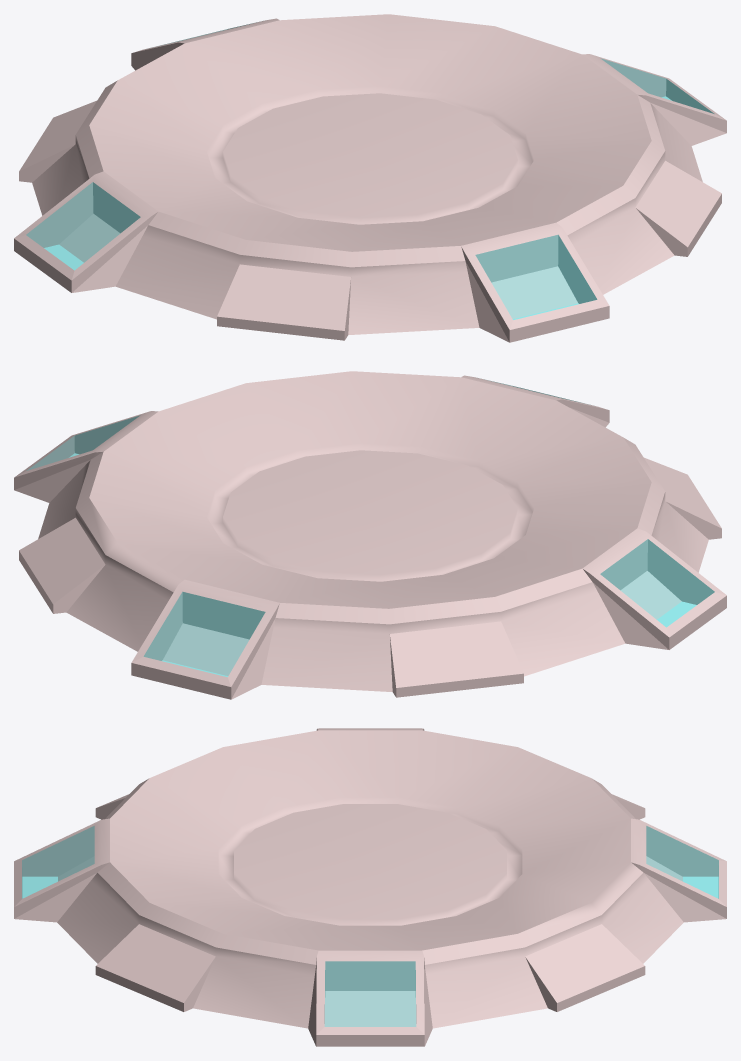
File: JumpPad_v3.fbx
3 renders of one model, top to bottom at view 1: azimuth 30°, elevation 25°; view 2: azimuth 150°, elevation 25°; view 3: azimuth 270°, elevation 25°, orthographic. The views are drawn at different scales.
Parts seen in each view (by area): view 1: JumpPad_v3, JumpPOadHolo_v1; view 2: JumpPad_v3, JumpPOadHolo_v1; view 3: JumpPad_v3, JumpPOadHolo_v1.
Boxes of the visible parts, bbox=[...] form: JumpPad_v3: bbox=[14, 14, 726, 342]; JumpPOadHolo_v1: bbox=[26, 26, 713, 319]; JumpPad_v3: bbox=[14, 371, 726, 699]; JumpPOadHolo_v1: bbox=[27, 383, 714, 676]; JumpPad_v3: bbox=[14, 728, 726, 1046]; JumpPOadHolo_v1: bbox=[22, 826, 718, 1026].
Bounding box in the file's own units: 2.56 × 0.2208 × 2.56.
